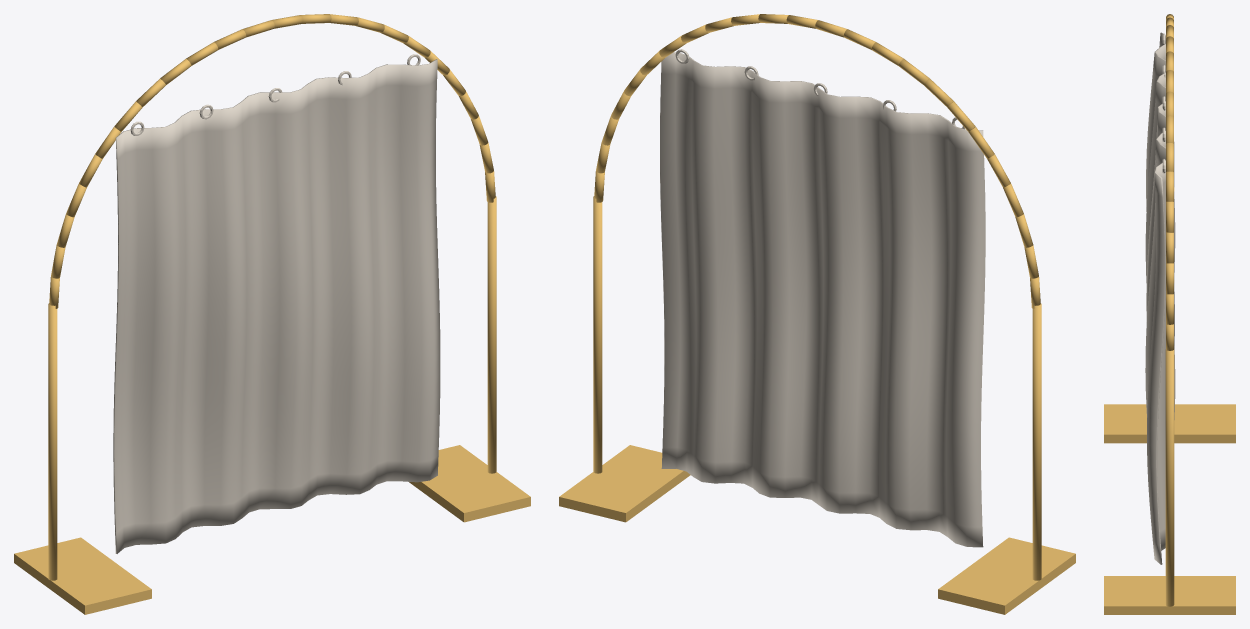
The model's file is backdrop-round-arch.glb.
3 renders of one model, left to right at view 1: azimuth 30°, elevation 25°; view 2: azimuth 150°, elevation 25°; view 3: azimuth 270°, elevation 25°, orthographic. The views are drawn at different scales.
Parts seen in each view (by area): view 1: BS_ContinuousDrape, BS_FootL, BS_FootR, BS_ArchPost.001, BS_ArchPost; view 2: BS_ContinuousDrape, BS_FootL, BS_FootR, BS_ArchPost.001, BS_ArchPost; view 3: BS_ContinuousDrape, BS_FootR, BS_FootL, BS_ArchPost, BS_ArchTop_02, BS_ArchTop_03, BS_ArchTop_04, BS_ArchTop_01, BS_ArchTop_05, BS_ArchTop_06, BS_ArchTop_07, BS_ArchTop_00.
Boxes of the visible parts, x1,y1,x2,y2 form: BS_ContinuousDrape: [113, 59, 440, 553]; BS_FootL: [14, 537, 151, 614]; BS_FootR: [409, 445, 530, 522]; BS_ArchPost.001: [48, 303, 57, 580]; BS_ArchPost: [487, 196, 496, 473]; BS_ContinuousDrape: [660, 52, 985, 547]; BS_FootL: [938, 537, 1075, 614]; BS_FootR: [559, 445, 690, 522]; BS_ArchPost.001: [1032, 303, 1041, 580]; BS_ArchPost: [593, 196, 602, 473]; BS_ContinuousDrape: [1145, 32, 1175, 564]; BS_FootR: [1104, 576, 1235, 614]; BS_FootL: [1104, 404, 1235, 443]; BS_ArchPost: [1165, 349, 1174, 606]; BS_ArchTop_02: [1166, 263, 1173, 294]; BS_ArchTop_03: [1166, 232, 1173, 263]; BS_ArchTop_04: [1166, 201, 1173, 232]; BS_ArchTop_01: [1166, 294, 1173, 324]; BS_ArchTop_05: [1166, 171, 1173, 201]; BS_ArchTop_06: [1166, 143, 1173, 171]; BS_ArchTop_07: [1166, 116, 1173, 143]; BS_ArchTop_00: [1166, 324, 1173, 350].
Bounding box in the file's own units: 2 × 2.2 × 0.55.
